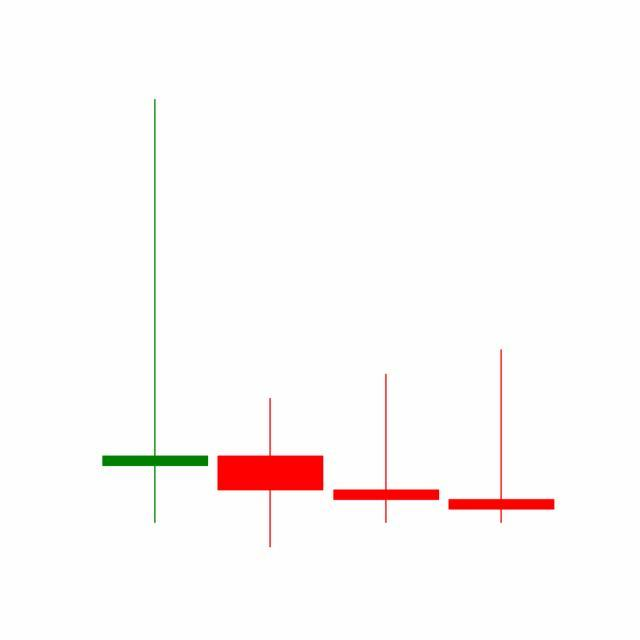Spinning Top: (329, 373, 445, 526)
